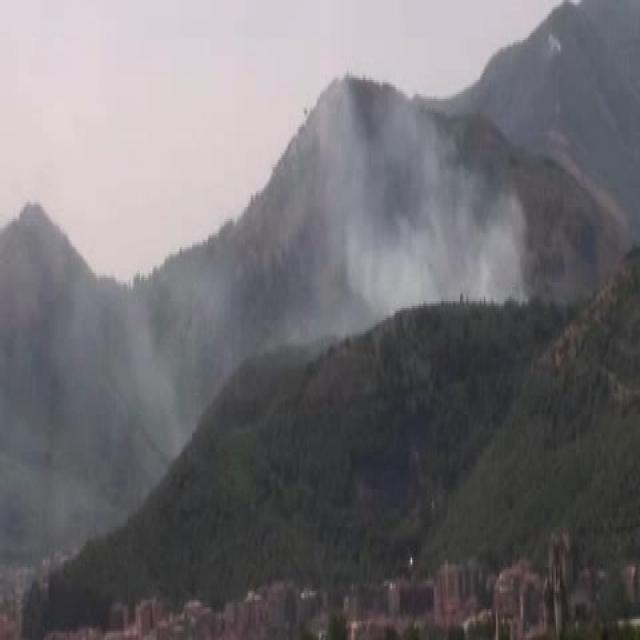smoke: (332, 93, 528, 306)
